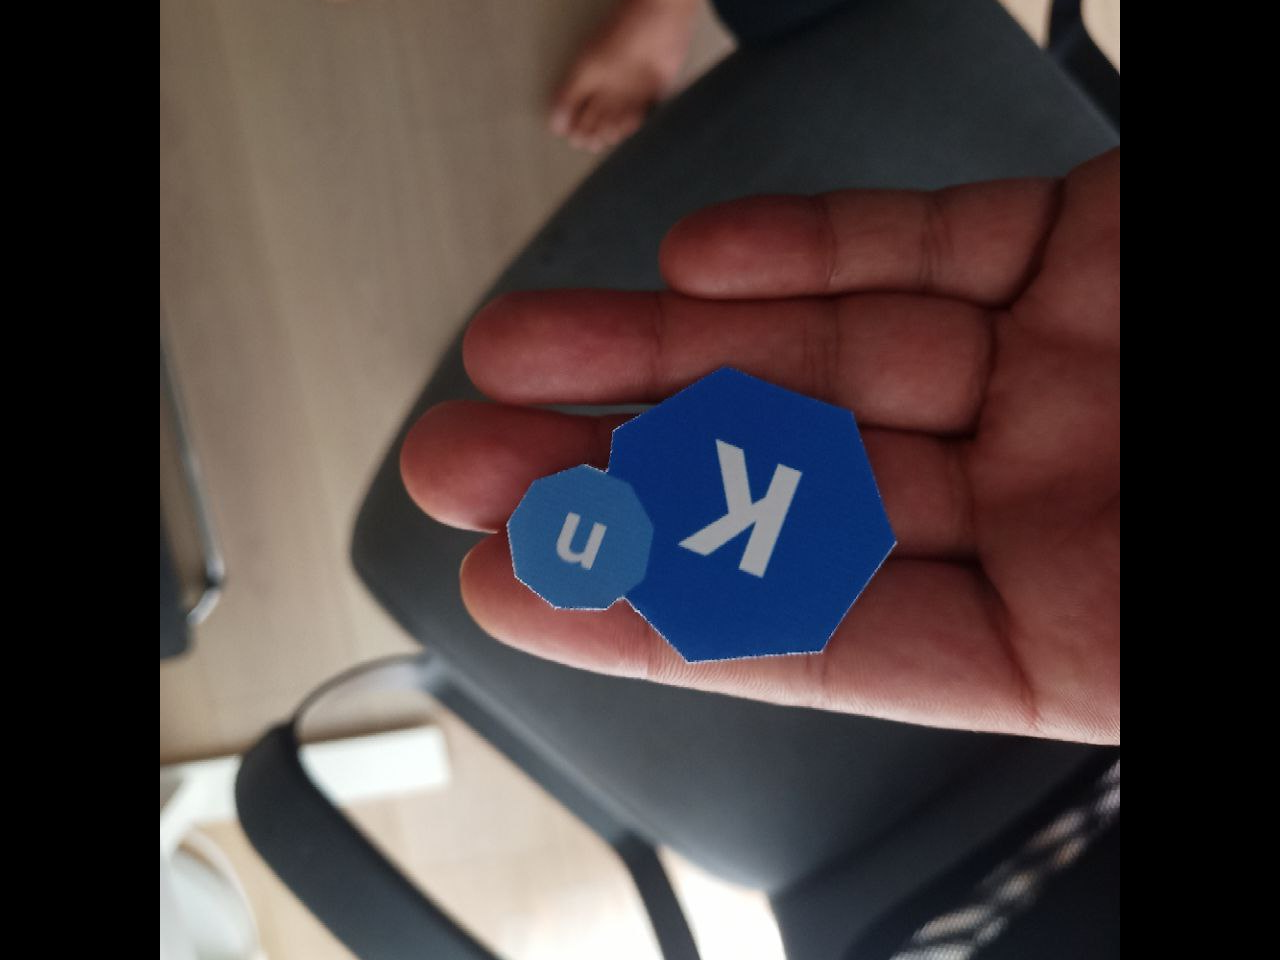knative: (505, 364, 902, 668)
